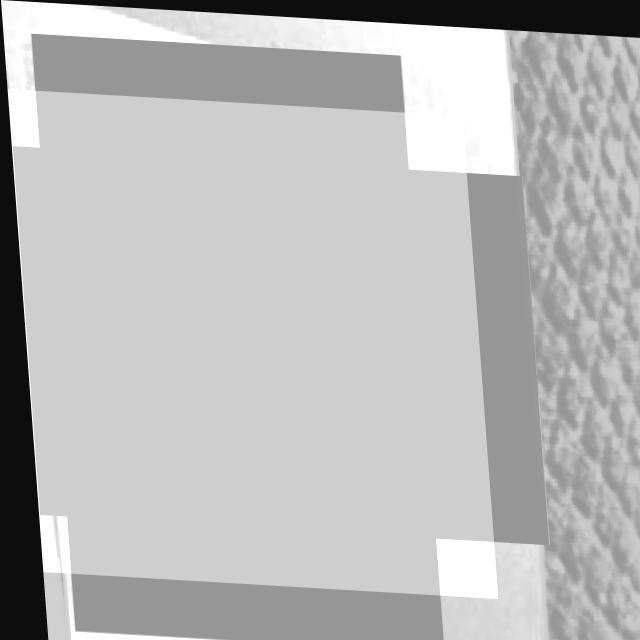qr_code: (5, 89, 488, 593)
